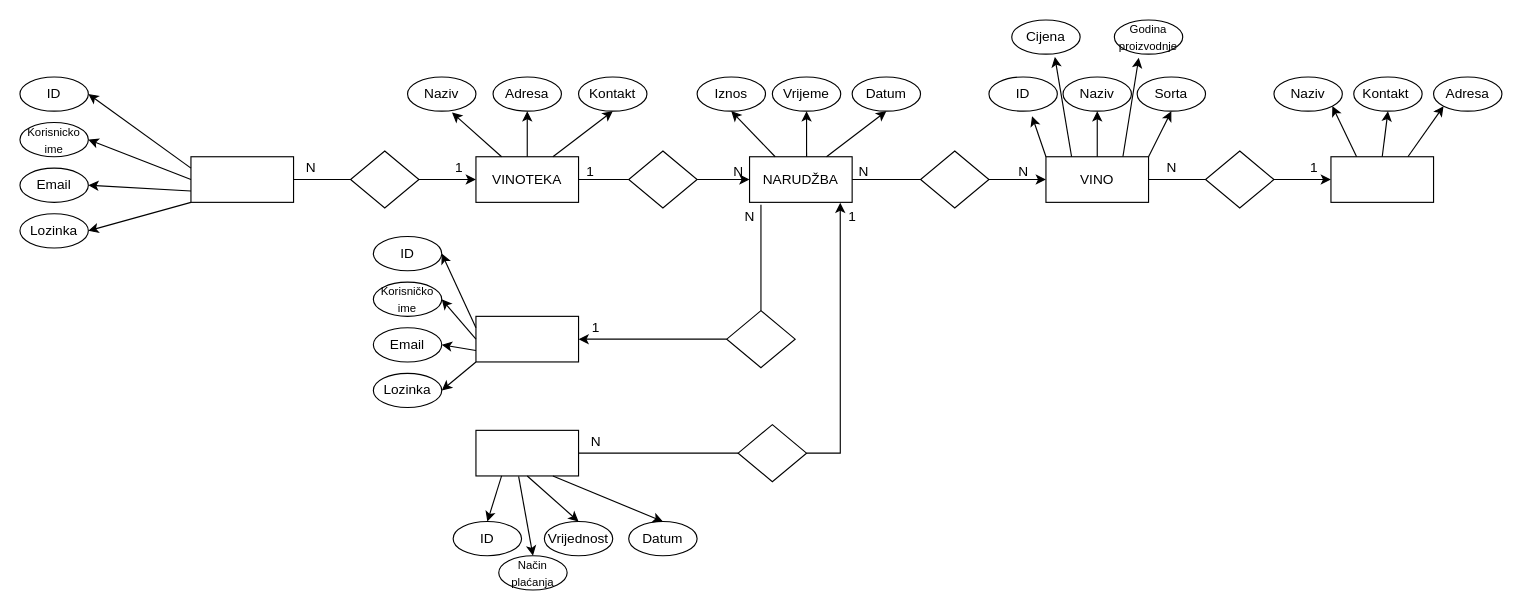
This 1522x610 diagram has some shape labels left out. Each missing label, with the centre of its shape:
DJELATNIK: the point at 242,179
DOBAVLJAČ: the point at 1382,179
IMA: the point at 662,179
IZDAJE SE ZA: the point at 772,453
KUPAC: the point at 527,338
Nabavljeno od: the point at 1239,179
Napravljena od: the point at 760,339
RADI: the point at 384,179
RAČUN: the point at 527,452
SADRŽI: the point at 954,179
